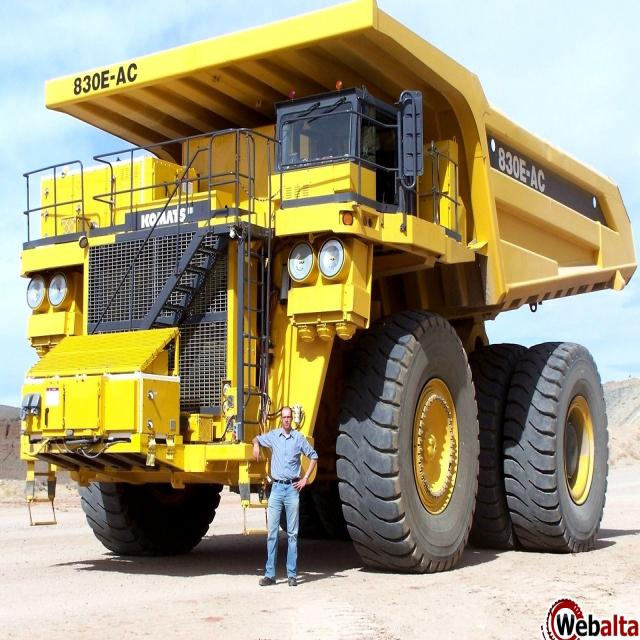dump_truck: (16, 3, 638, 575)
